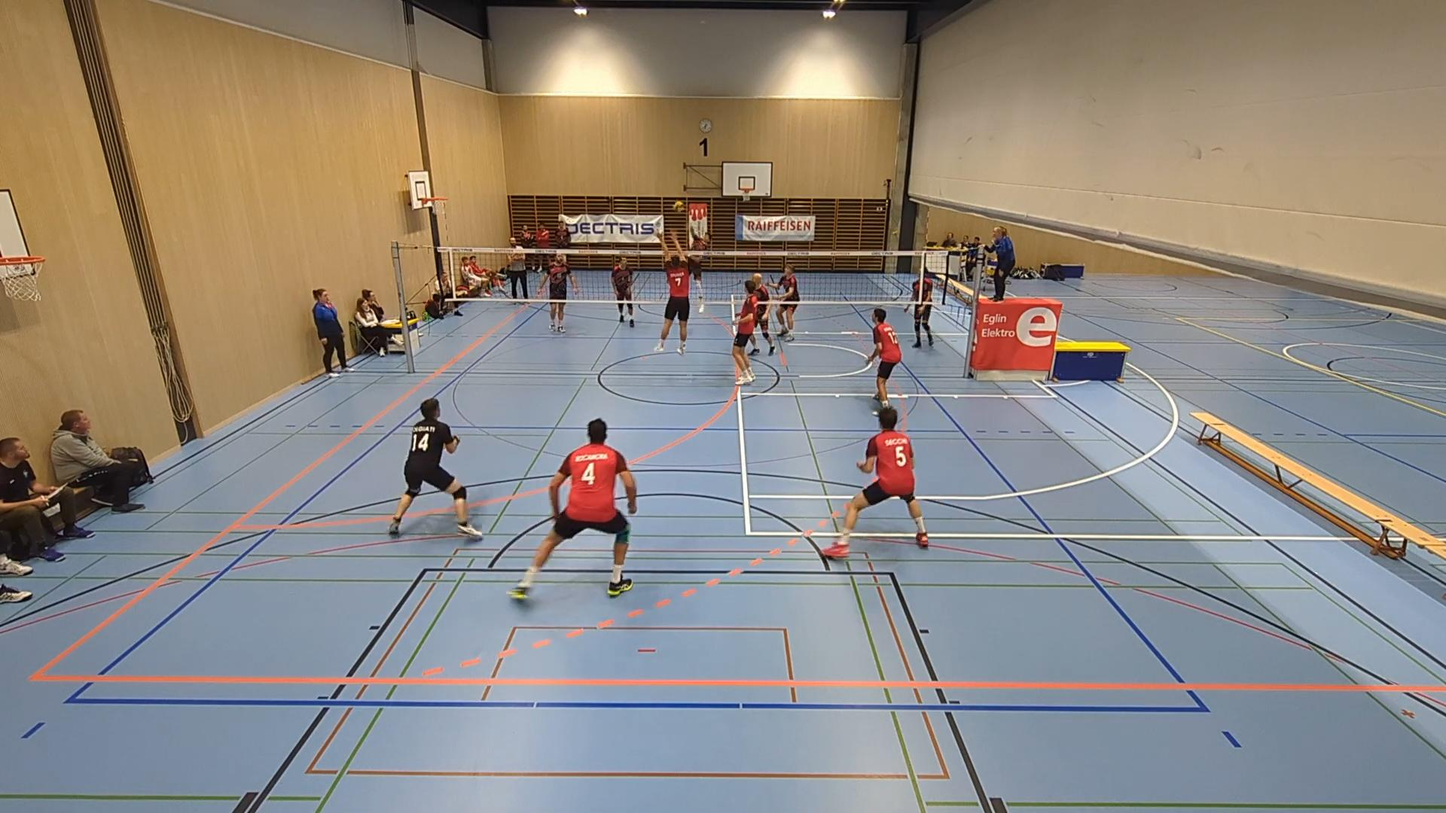Attack: (682, 221, 716, 315)
Block: (653, 236, 700, 357)
Player: (509, 419, 636, 599), (822, 407, 928, 558), (388, 398, 481, 537), (868, 308, 901, 410), (731, 280, 757, 385), (548, 254, 580, 332), (749, 273, 775, 355), (773, 263, 799, 340), (912, 273, 933, 346), (612, 257, 634, 325)
ball: (671, 197, 686, 210)
